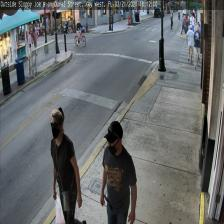person: (99, 120, 136, 224), (50, 109, 80, 222)
